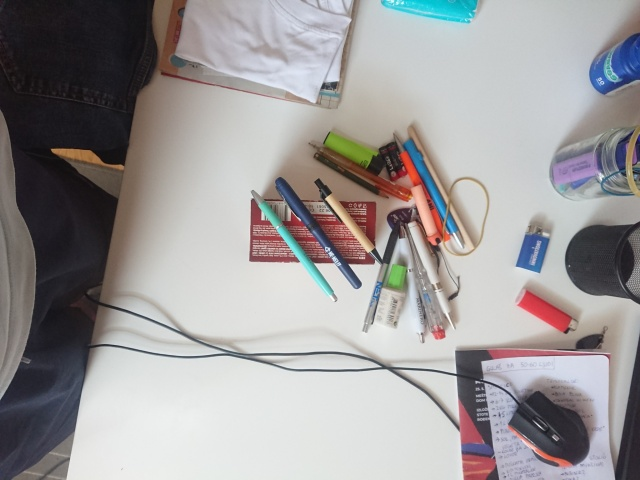Franck Apple Cinnamon Tea 60g: (247, 195, 377, 266)
